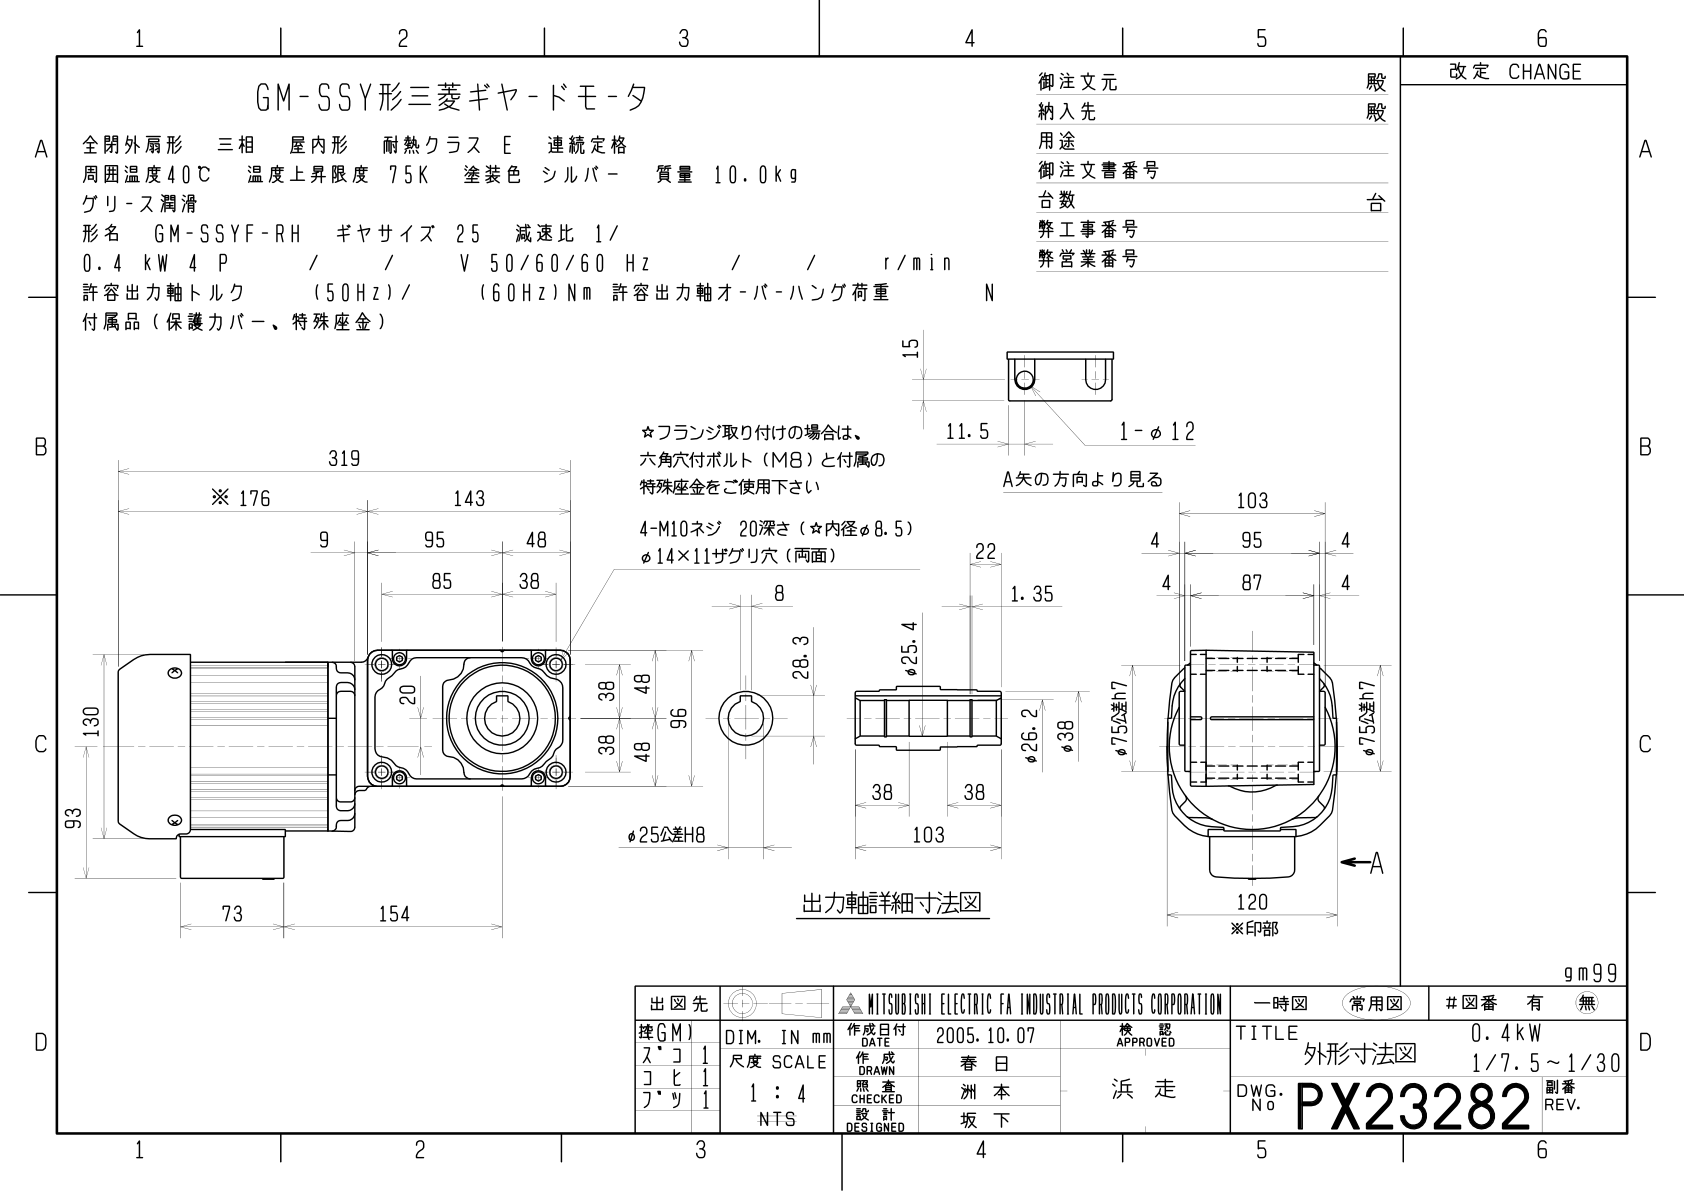GM_SSY_屋内_三相: (67, 331, 1395, 971)
